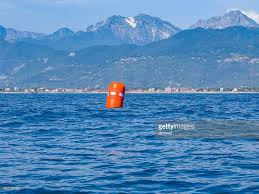buoy: (106, 82, 125, 109)
